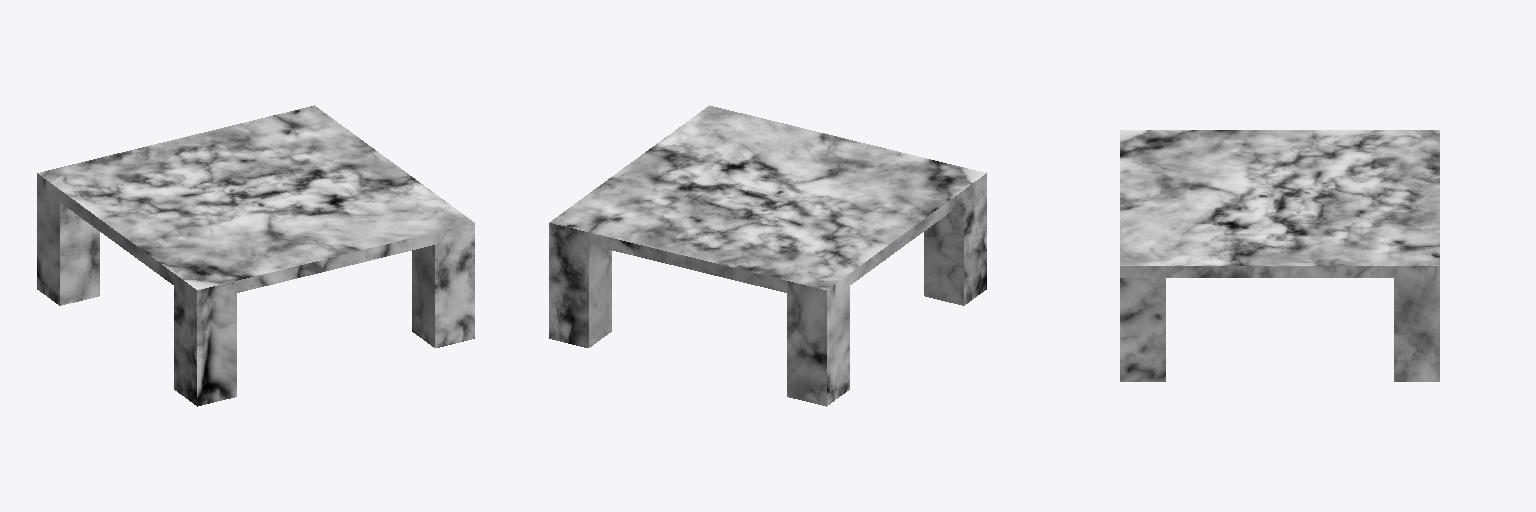
3 renders of one model, left to right at view 1: azimuth 30°, elevation 25°; view 2: azimuth 150°, elevation 25°; view 3: azimuth 270°, elevation 25°, orthographic.
Parts seen in each view (by area): view 1: Cube.001; view 2: Cube.001; view 3: Cube.001.
Part boxes in pixels (bbox=[...]): Cube.001: bbox=[37, 105, 474, 406]; Cube.001: bbox=[549, 105, 986, 406]; Cube.001: bbox=[1120, 130, 1439, 381].
Bounding box in the file's own units: 10.5 × 4.2 × 10.5.
1 materials, 1 textured.